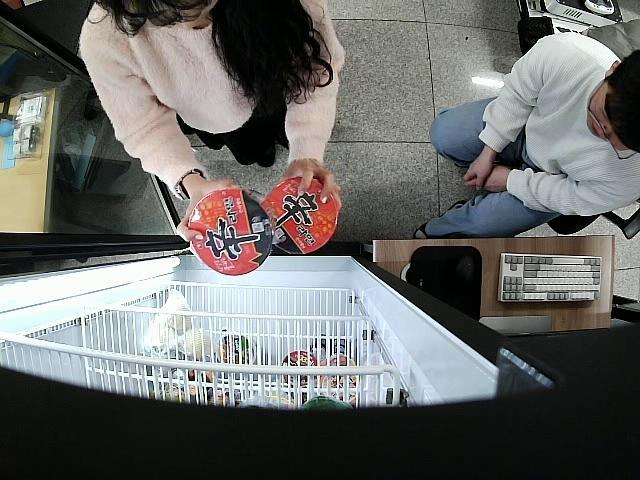01_ShinRamen_L: (188, 190, 272, 275), (270, 178, 338, 256)
